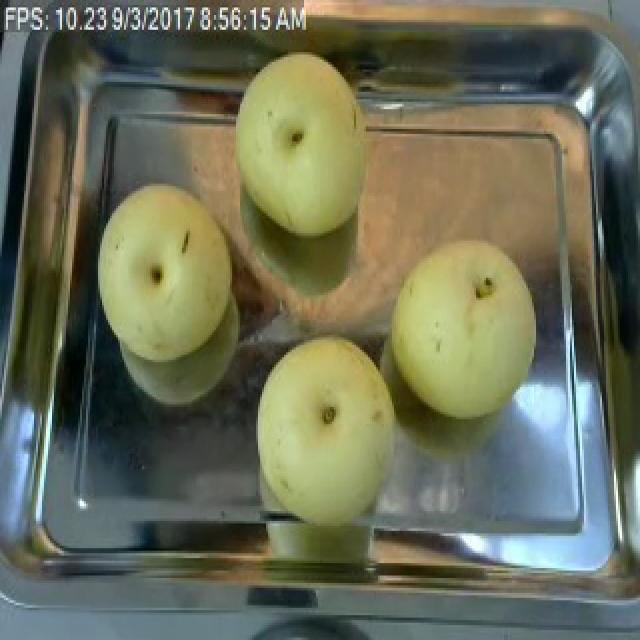Fruit: (372, 223, 548, 432), (242, 322, 416, 524), (88, 168, 256, 374), (222, 40, 376, 253)
